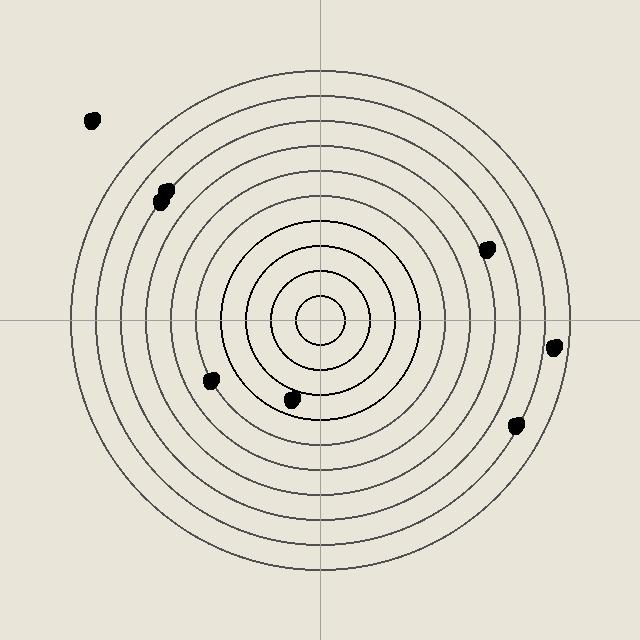random_scatter: (476, 239, 496, 259), (281, 389, 301, 409), (81, 110, 101, 130), (200, 370, 220, 390), (150, 191, 170, 211), (543, 337, 563, 357), (505, 415, 525, 435), (155, 181, 175, 201)
